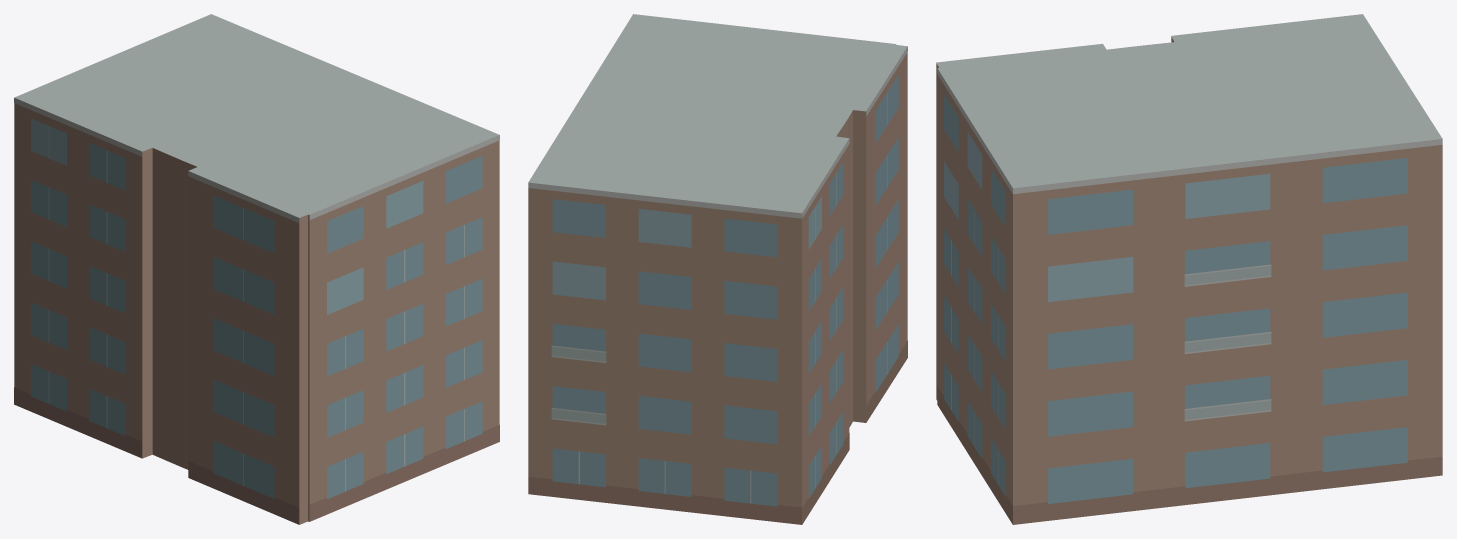
File: survey-upis-32713766.glb
3 renders of one model, left to right at view 1: azimuth 30°, elevation 25°; view 2: azimuth 150°, elevation 25°; view 3: azimuth 270°, elevation 25°, orthographic. The views are drawn at different scales.
Visible parts, largest first — view 1: survey-upis-32713766.tmp; view 2: survey-upis-32713766.tmp; view 3: survey-upis-32713766.tmp.
Boxes of the visible parts, bbox=[...] form: survey-upis-32713766.tmp: bbox=[14, 14, 499, 524]; survey-upis-32713766.tmp: bbox=[528, 14, 907, 524]; survey-upis-32713766.tmp: bbox=[936, 14, 1442, 524].
Size of the model in its own units: 15.68 by 14.1 by 19.24.
